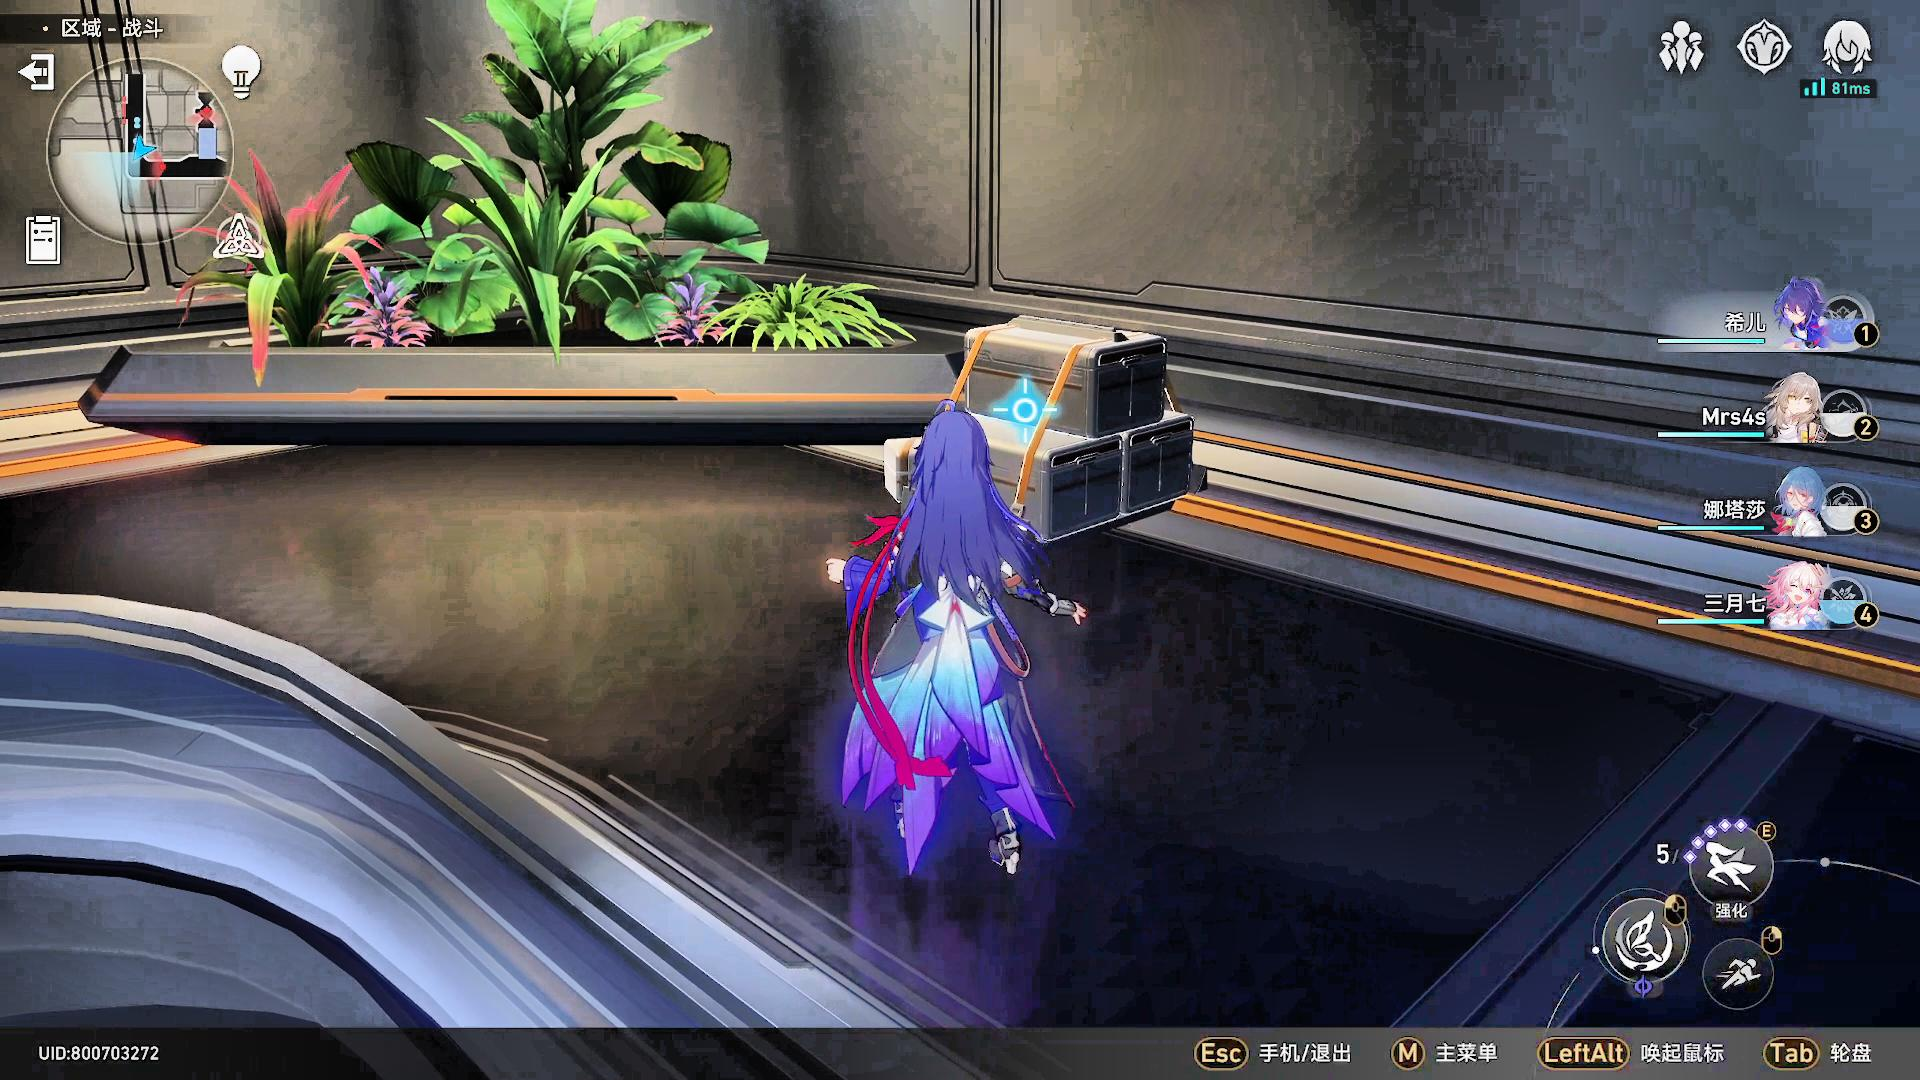Box: (884, 315, 1215, 547)
Self: (831, 411, 1088, 884)
